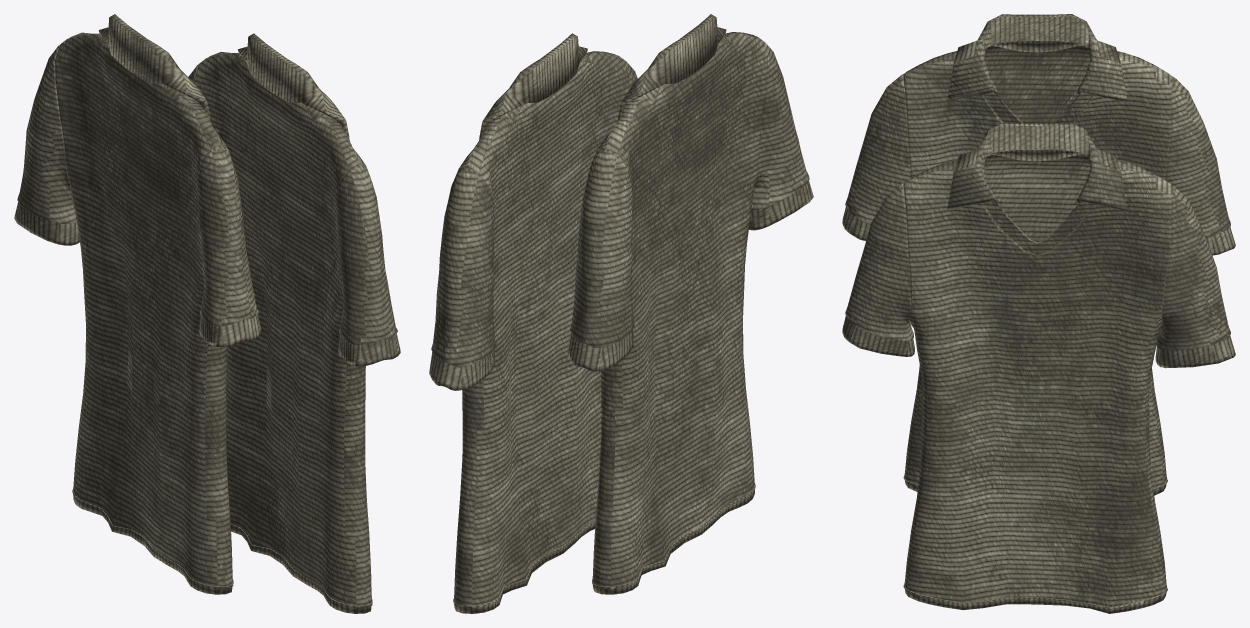
Rendered from yifu12txu_01.fbx.
3 views of the same model, side by side, from view 1: azimuth 30°, elevation 25°; view 2: azimuth 150°, elevation 25°; view 3: azimuth 270°, elevation 25° (orthographic). The views are drawn at different scales.
Parts seen in each view (by area): view 1: yifu12txu_01; view 2: yifu12txu_01; view 3: yifu12txu_01.
Part boxes in pixels (x1,y1,x2,y2): yifu12txu_01: (14, 14, 400, 613); yifu12txu_01: (429, 14, 813, 613); yifu12txu_01: (842, 14, 1235, 613).
Size of the model in its own units: 36.06 by 94.49 by 65.14.
